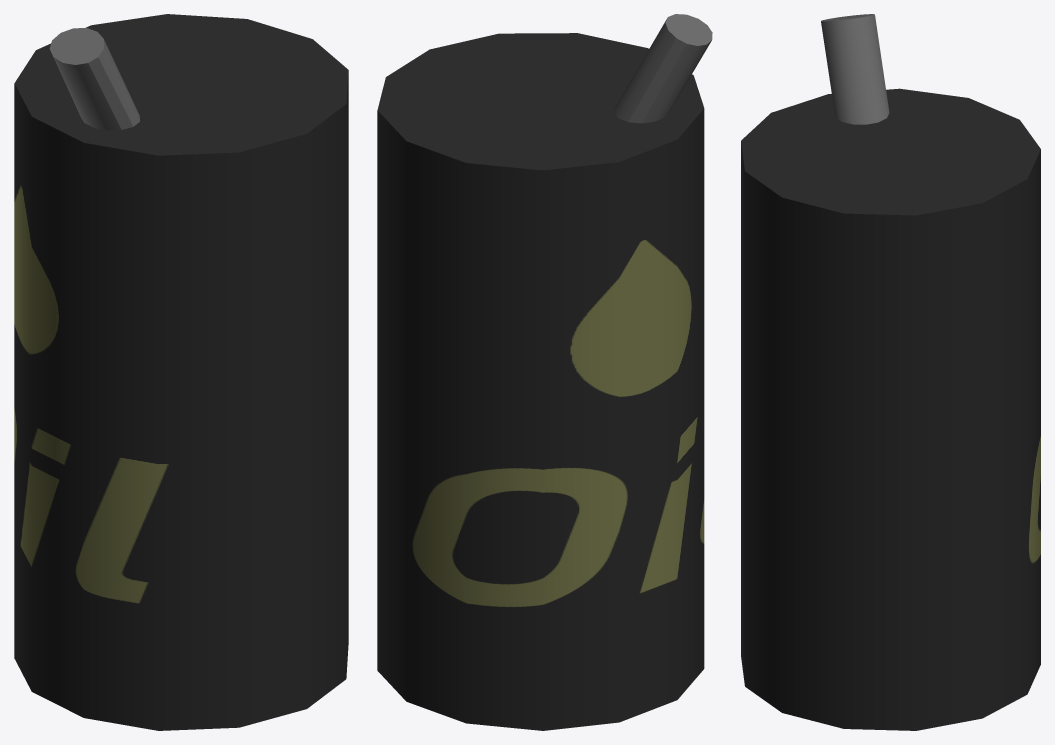
The model's file is Collectable_Oil_Can.fbx.
3 renders of one model, left to right at view 1: azimuth 30°, elevation 25°; view 2: azimuth 150°, elevation 25°; view 3: azimuth 270°, elevation 25°, orthographic. The views are drawn at different scales.
Visible parts, largest first — view 1: Collectable_Oil_Can; view 2: Collectable_Oil_Can; view 3: Collectable_Oil_Can.
Part boxes in pixels (<box>): Collectable_Oil_Can: <box>14,14,348,730</box>; Collectable_Oil_Can: <box>377,14,712,730</box>; Collectable_Oil_Can: <box>741,14,1040,730</box>.
Size of the model in its own units: 6.21 by 13.52 by 6.11.
Materials: 1 (1 with a texture image).
